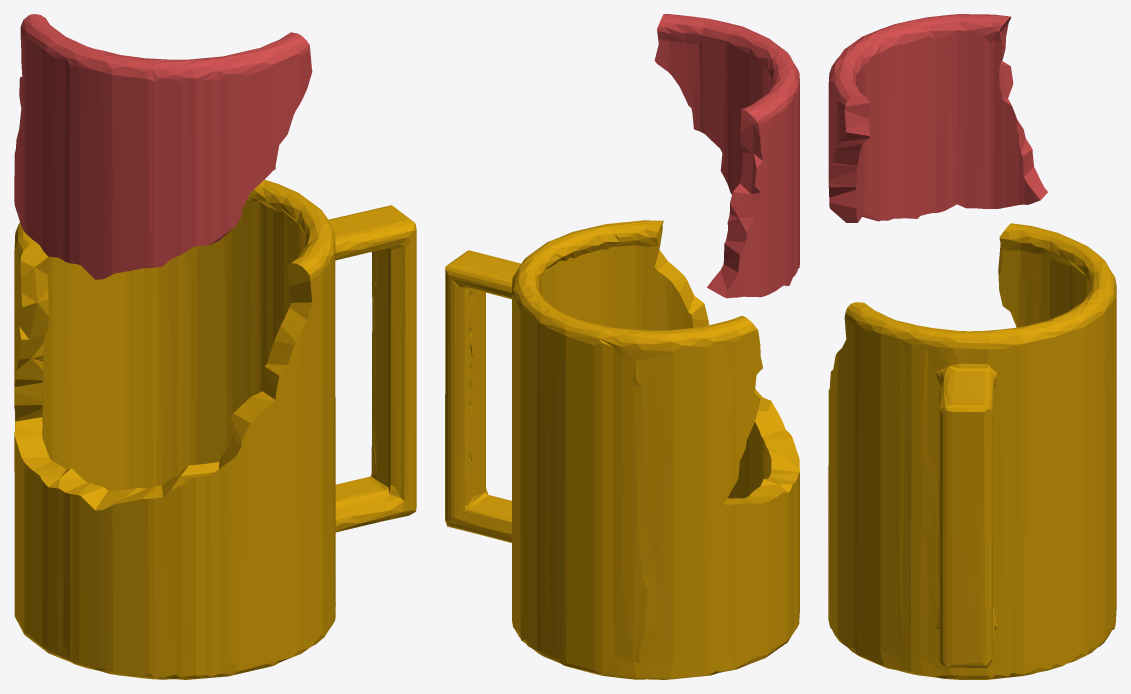
Rendered from fractured_46_2pcs_transformed.glb.
The picture shows the model from 3 angles, left to right: view 1: azimuth 30°, elevation 25°; view 2: azimuth 150°, elevation 25°; view 3: azimuth 270°, elevation 25°; orthographic projection. The views are drawn at different scales.
Parts seen in each view (by area): view 1: piece_0.obj, piece_1.obj; view 2: piece_0.obj, piece_1.obj; view 3: piece_0.obj, piece_1.obj.
Part boxes in pixels (x1=…): piece_0.obj: x1=14, y1=179, x2=416, y2=679; piece_1.obj: x1=14, y1=14, x2=312, y2=279; piece_0.obj: x1=445, y1=220, x2=799, y2=679; piece_1.obj: x1=654, y1=14, x2=799, y2=298; piece_0.obj: x1=828, y1=223, x2=1116, y2=679; piece_1.obj: x1=828, y1=14, x2=1047, y2=222.
Bounding box in the file's own units: 0.9993 × 1.6 × 0.7582.
